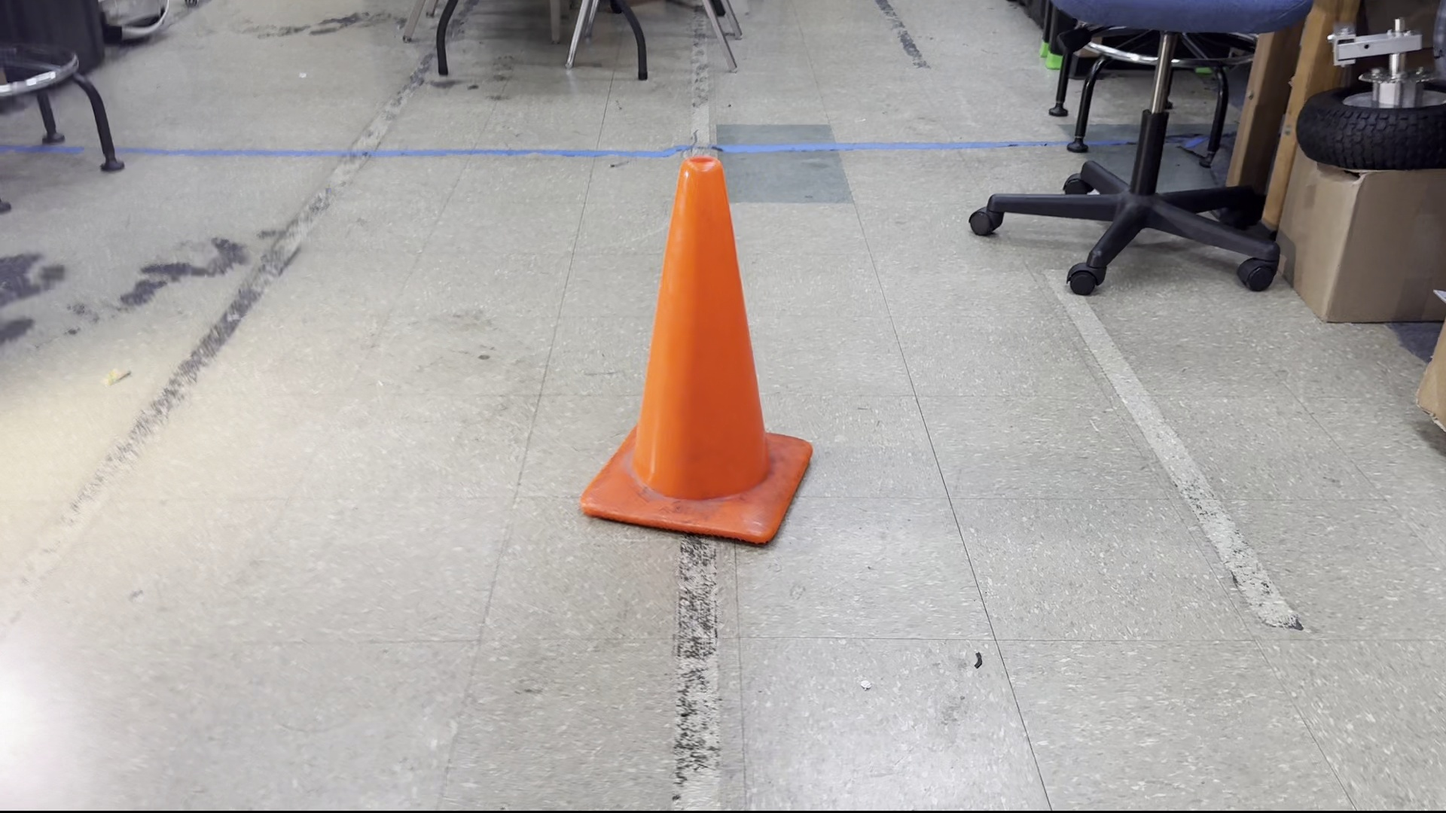traffic_cone: (579, 154, 813, 546)
